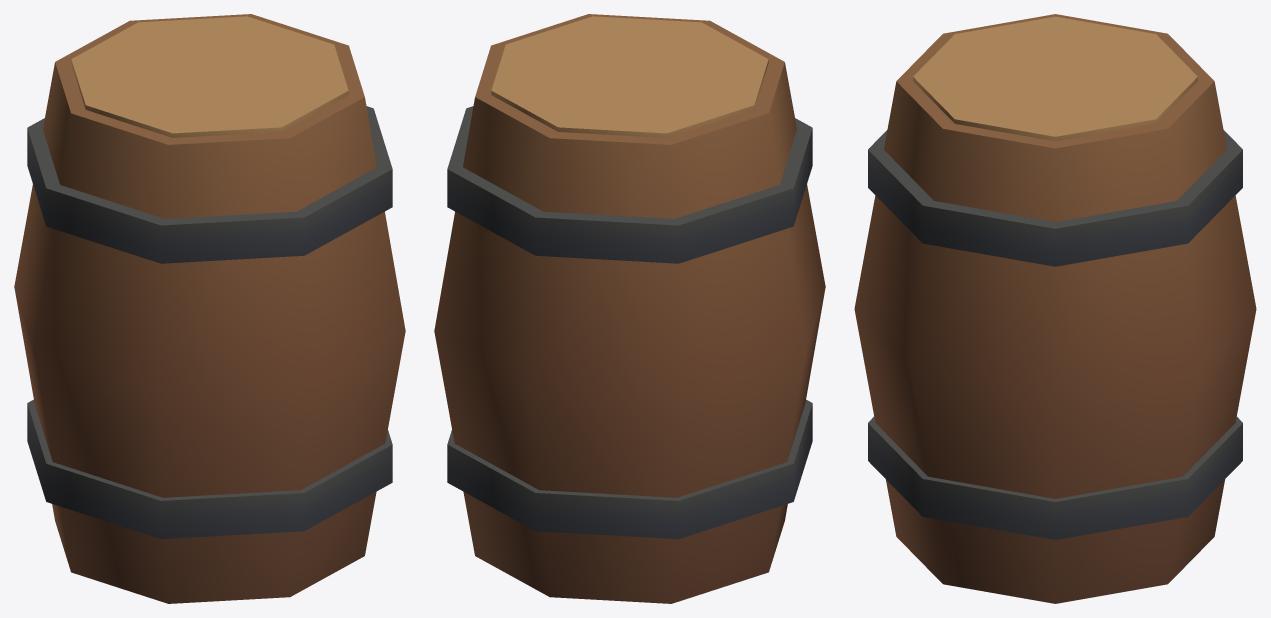
Rendered from barrel.glb.
3 views of the same model, side by side, from view 1: azimuth 30°, elevation 25°; view 2: azimuth 150°, elevation 25°; view 3: azimuth 270°, elevation 25° (orthographic).
Parts seen in each view (by area): view 1: barrel; view 2: barrel; view 3: barrel.
Boxes of the visible parts, left/top/right/bottom form: barrel: left=14, top=14, right=405, bottom=603; barrel: left=434, top=14, right=825, bottom=603; barrel: left=854, top=14, right=1256, bottom=603.
Bounding box in the file's own units: 2.4 × 3.03 × 2.4.
1 material, 1 textured.
